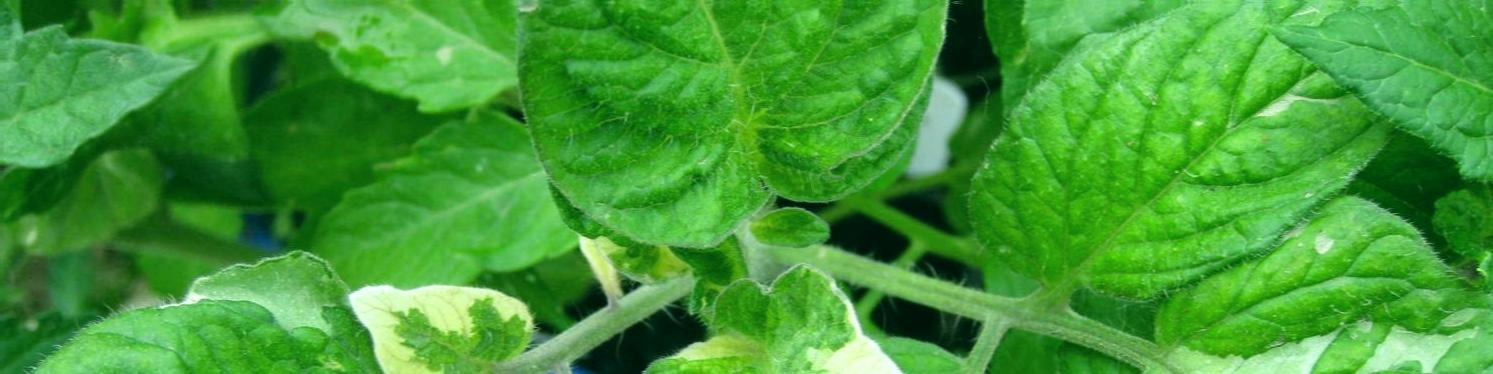Tomato leaf: (497, 0, 958, 257), (977, 0, 1382, 276), (0, 0, 203, 206)
